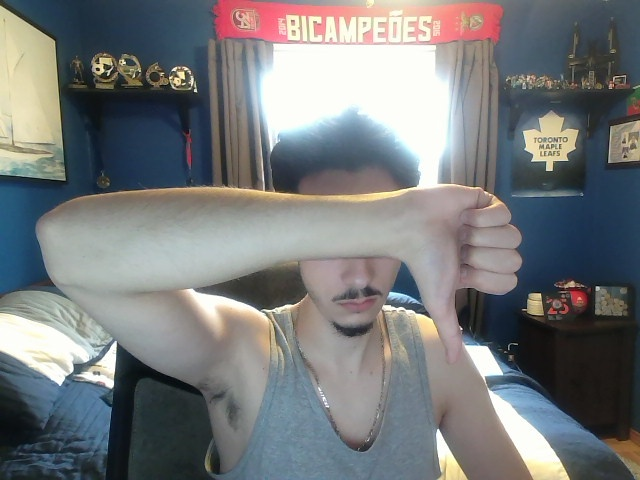ThumbsDown: (398, 182, 524, 371)
